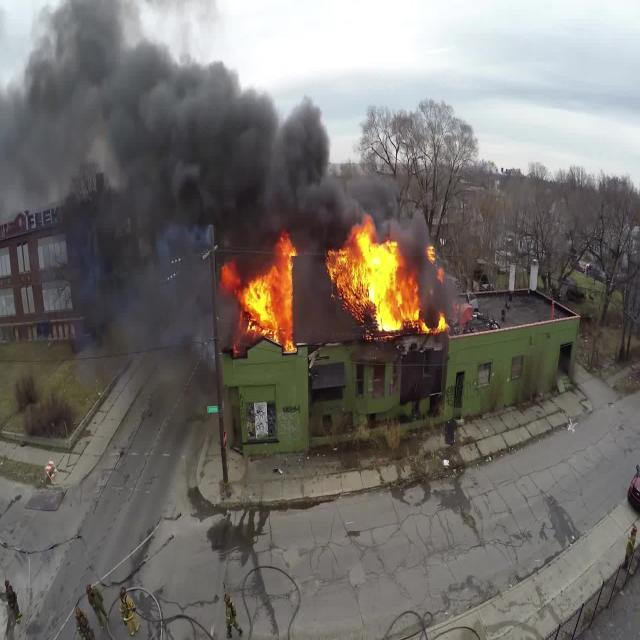Fire: (208, 212, 474, 362)
Smoke: (1, 3, 477, 338)
